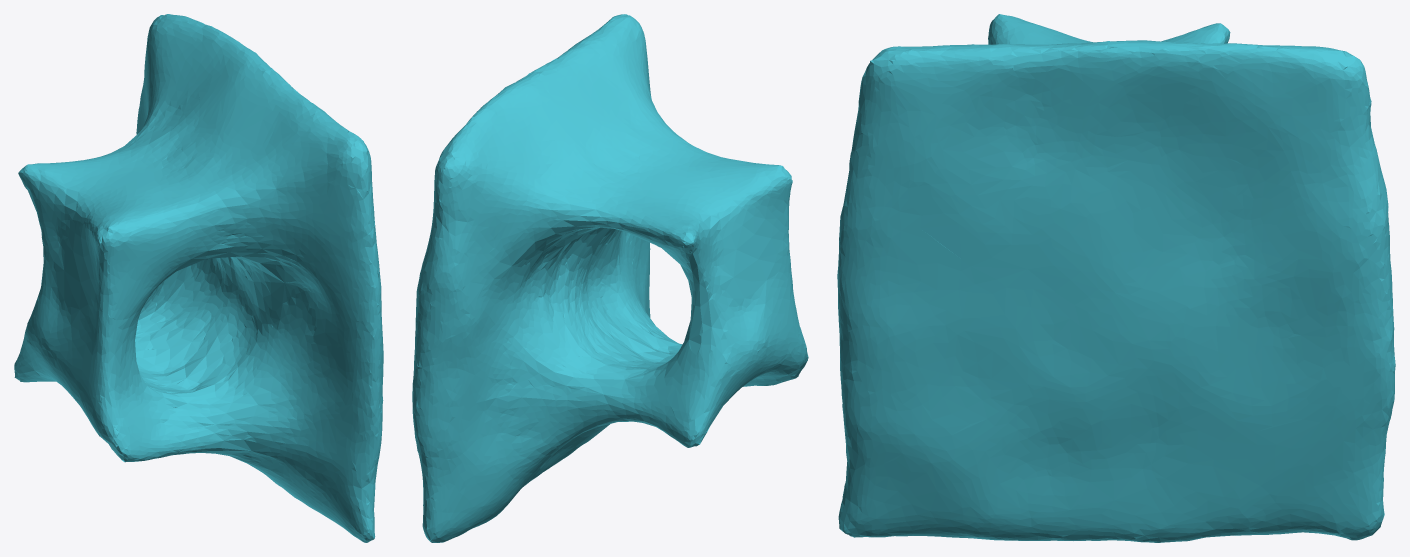
The picture shows the model from 3 angles, left to right: view 1: azimuth 30°, elevation 25°; view 2: azimuth 150°, elevation 25°; view 3: azimuth 270°, elevation 25°; orthographic projection. The views are drawn at different scales.
Visible parts, largest first — view 1: Renderer Node; view 2: Renderer Node; view 3: Renderer Node.
Boxes of the visible parts, <box> form: Renderer Node: <box>14,14,383,542</box>; Renderer Node: <box>412,14,808,542</box>; Renderer Node: <box>837,14,1395,542</box>.
Size of the model in its own units: 0.3956 by 0.6266 by 0.6321.
Materials: 1 (1 with a texture image).
